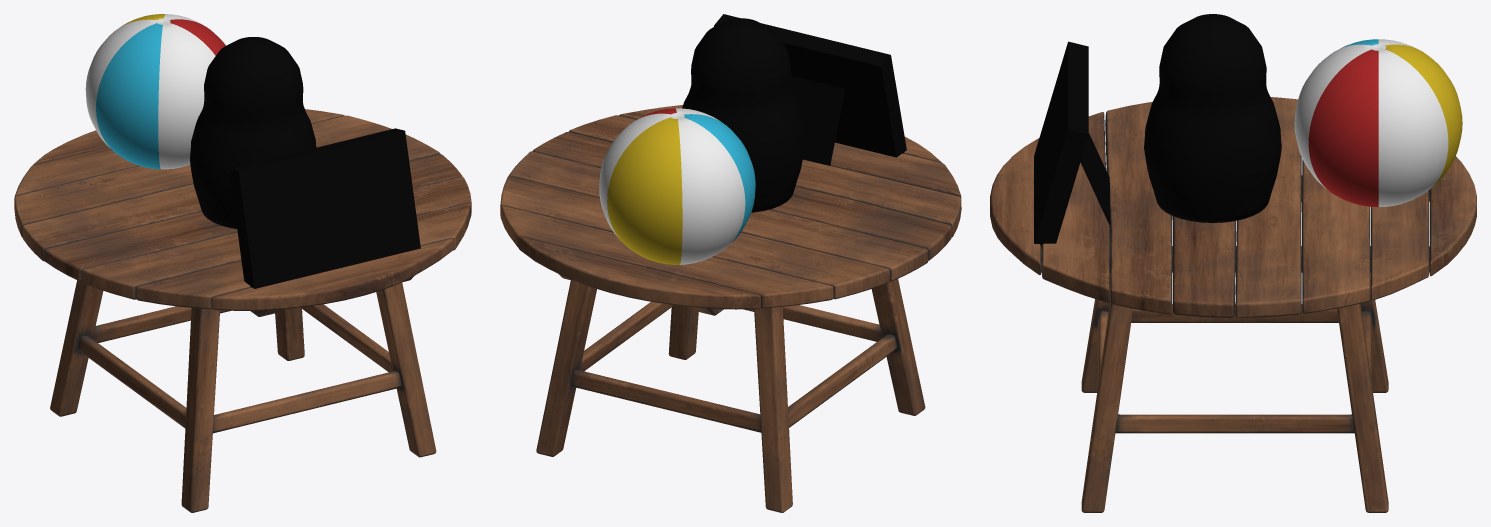
Rendered from shad_DP.glb.
The picture shows the model from 3 angles, left to right: view 1: azimuth 30°, elevation 25°; view 2: azimuth 150°, elevation 25°; view 3: azimuth 270°, elevation 25°; orthographic projection. The views are drawn at different scales.
Visible parts, largest first — view 1: Table_Wood_textures.SP_0.001, Cube, Sphere, Circle; view 2: Table_Wood_textures.SP_0.001, Sphere, Circle, Cube; view 3: Table_Wood_textures.SP_0.001, Circle, Sphere, Cube.
Boxes of the visible parts, x1,y1,x2,y2 form: Table_Wood_textures.SP_0.001: [14, 109, 471, 512]; Cube: [229, 128, 420, 288]; Sphere: [85, 14, 225, 169]; Circle: [190, 37, 316, 228]; Table_Wood_textures.SP_0.001: [500, 105, 961, 512]; Sphere: [599, 108, 755, 264]; Circle: [682, 18, 805, 212]; Cube: [714, 14, 906, 165]; Table_Wood_textures.SP_0.001: [990, 97, 1476, 512]; Circle: [1144, 14, 1281, 222]; Sphere: [1294, 39, 1462, 207]; Cube: [1034, 41, 1110, 248].
Bounding box in the file's own units: 2 × 1.92 × 1.97.
Materials: 7 (1 with a texture image).
